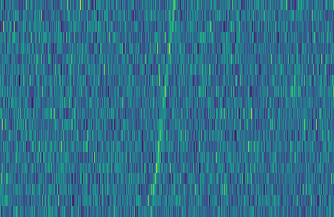signal: (146, 0, 179, 217)
